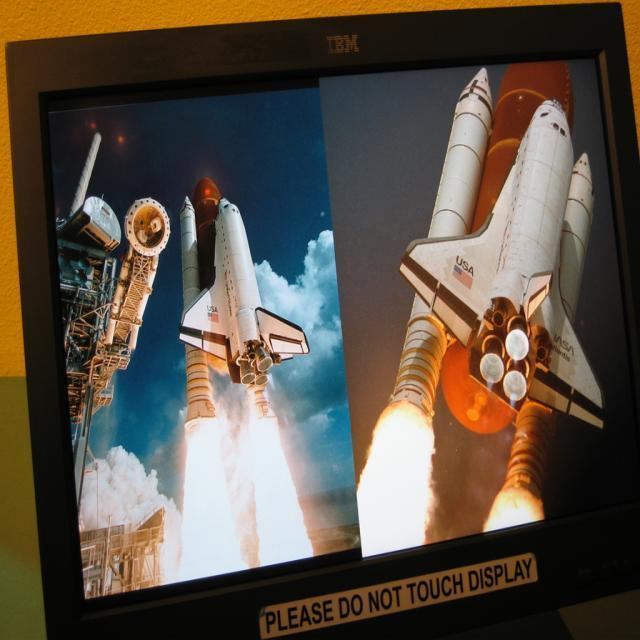missile: (360, 45, 518, 465), (171, 181, 210, 432)
